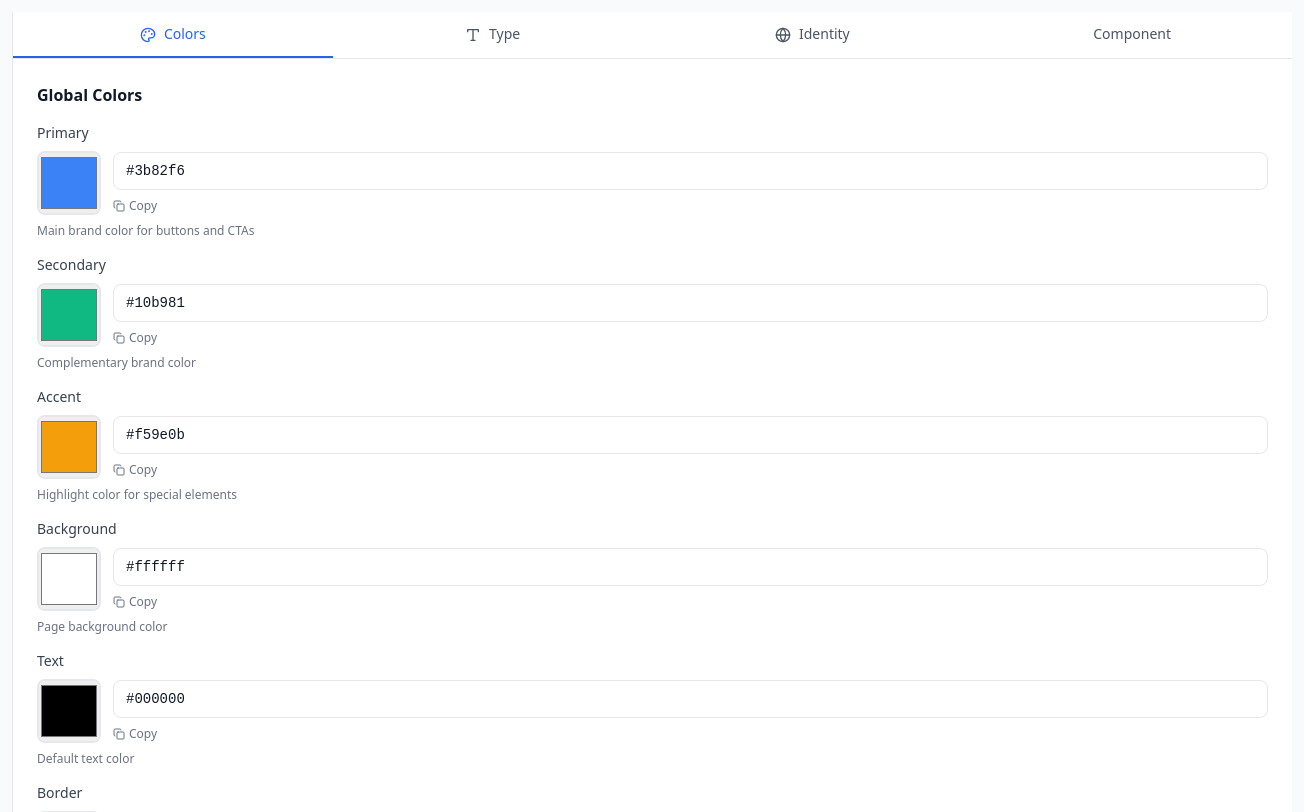
Test case: PropertiesPanel › Typography Tab › should display typography controls when tab is active
Click the button "Type" at point(493, 35), box [333,12,653,58]
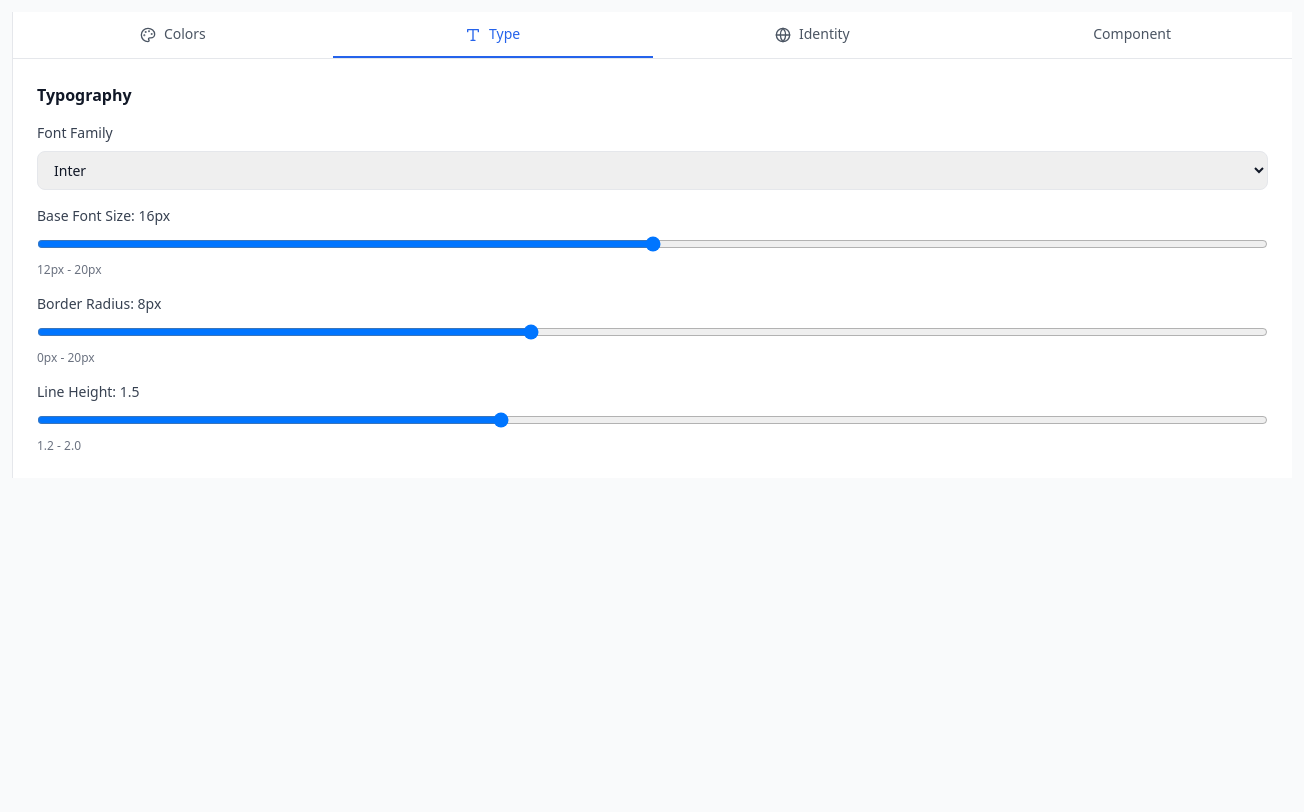
Result: the heading "Typography" is shown at [37,84,132,106]
